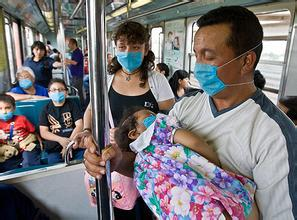NONE: (35, 47, 45, 59), (181, 77, 191, 88)
OK: (192, 46, 241, 95), (115, 37, 150, 72), (51, 88, 66, 105), (18, 76, 34, 91)
WRONG: (1, 104, 15, 122)
